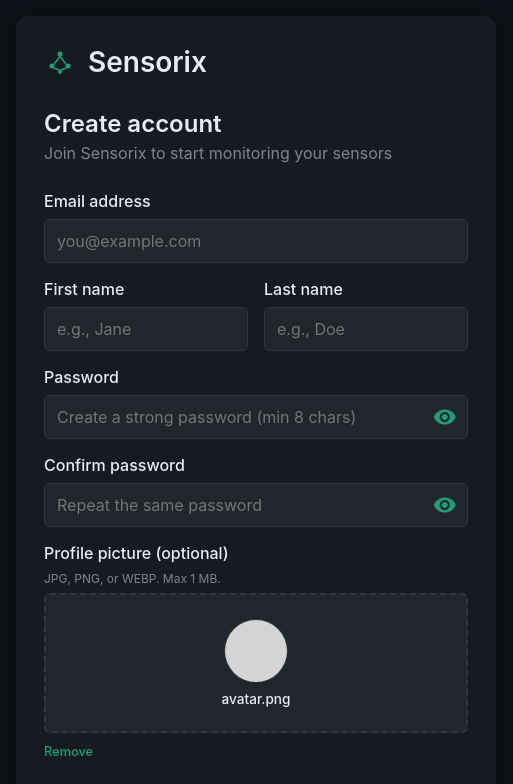
Test: SignupComponent › shows remove button when preview exists and resets UI after removing
Step 1. Click the button with class "upload-remove" → (69, 752), box [44,744,93,761]
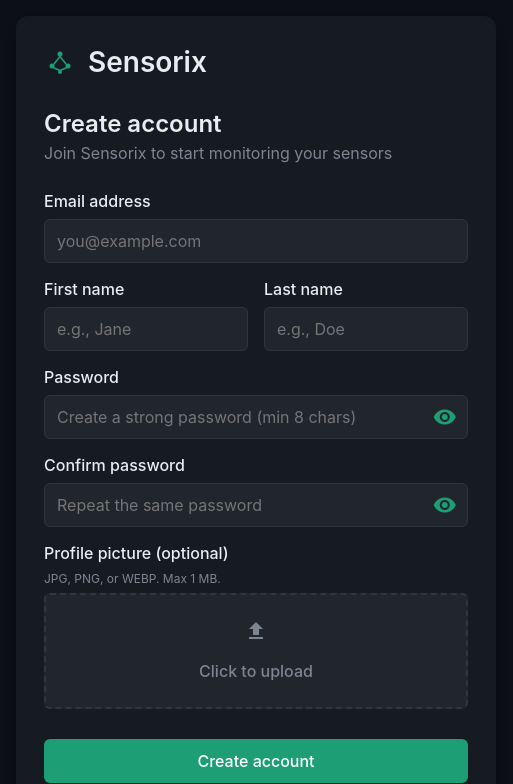
Expected: the text "Click to upload" is shown, [199,659,313,683]
Expected: the button with class "upload-remove" is gone
